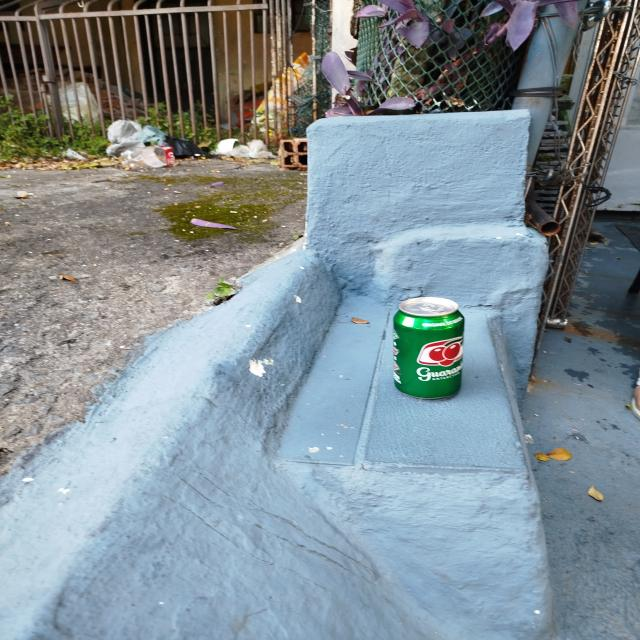Guarana: (390, 298, 464, 400)
